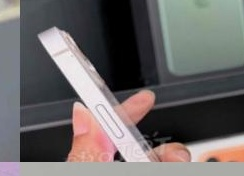physical_damage: (0, 162, 20, 176)
